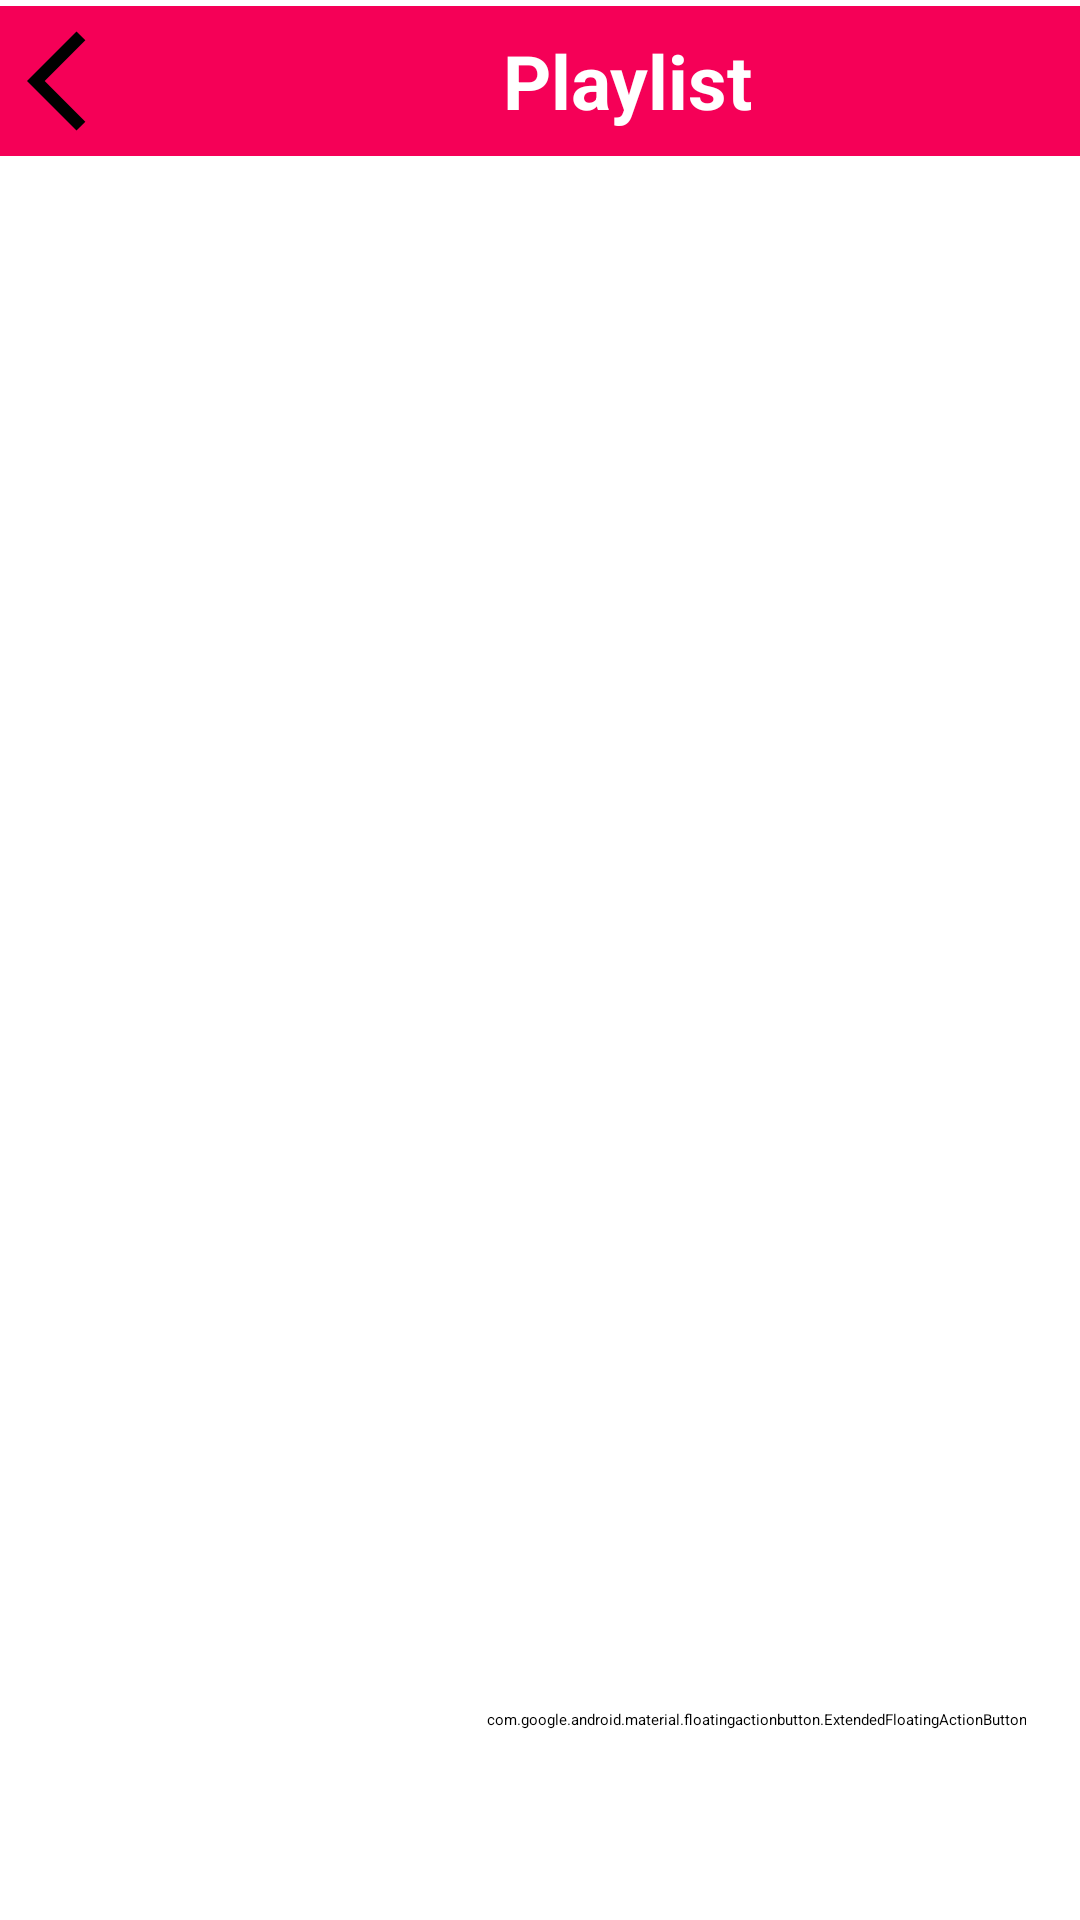

Icons on this 1080×1920 Android screen, each with the point to tap as [x,y]:
Back: [56,81]
